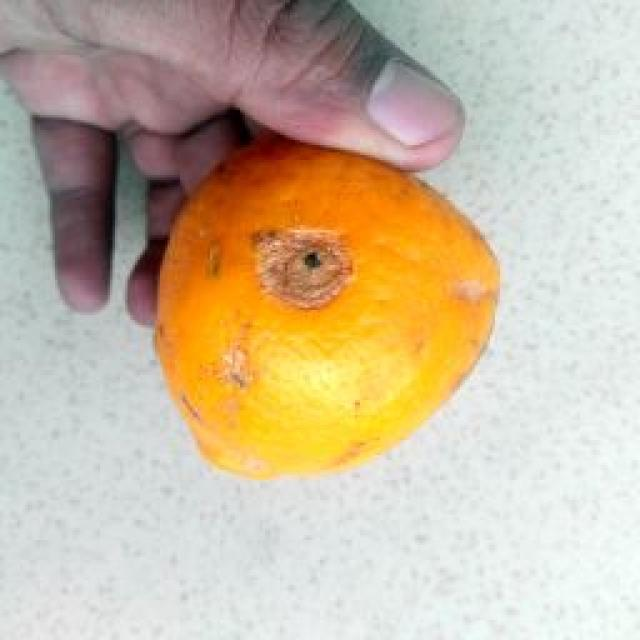Bad_Orange: (156, 132, 499, 477)
